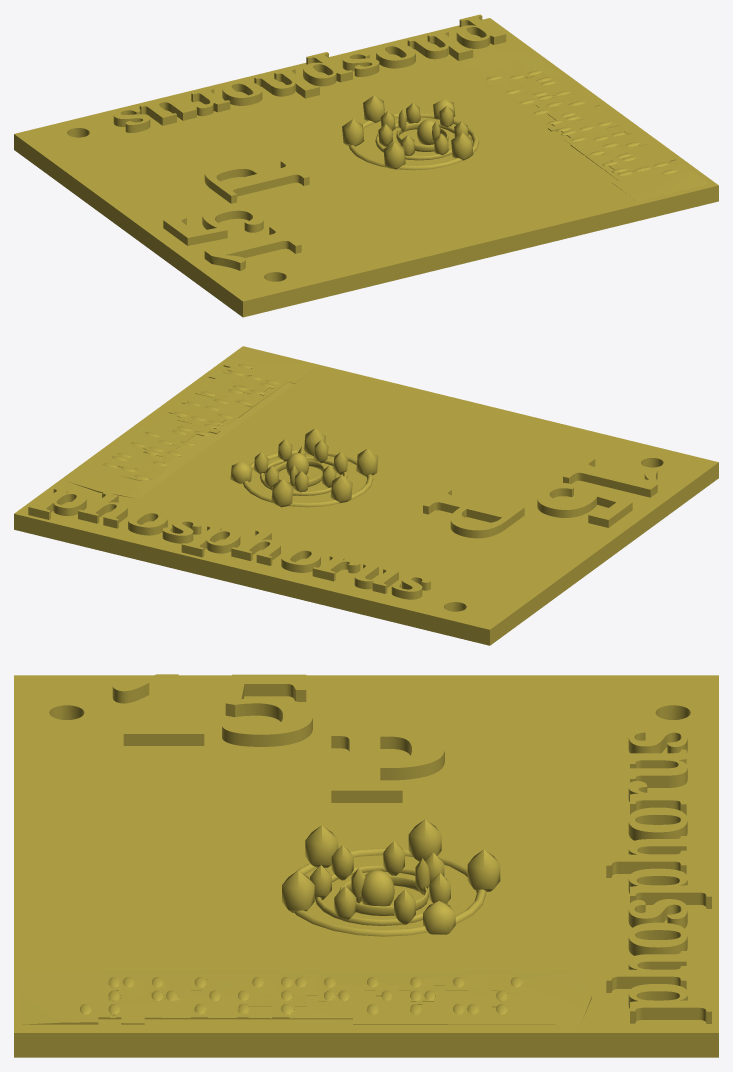
File: Phosphorus.glb
3 renders of one model, top to bottom at view 1: azimuth 30°, elevation 25°; view 2: azimuth 150°, elevation 25°; view 3: azimuth 270°, elevation 25°, orthographic. The views are drawn at different scales.
Visible parts, largest first — view 1: Object_2; view 2: Object_2; view 3: Object_2.
Part boxes in pixels (bbox=[...]): Object_2: bbox=[14, 14, 718, 317]; Object_2: bbox=[14, 346, 718, 645]; Object_2: bbox=[14, 674, 718, 1057].
Size of the model in its own units: 120 by 10 by 100.
